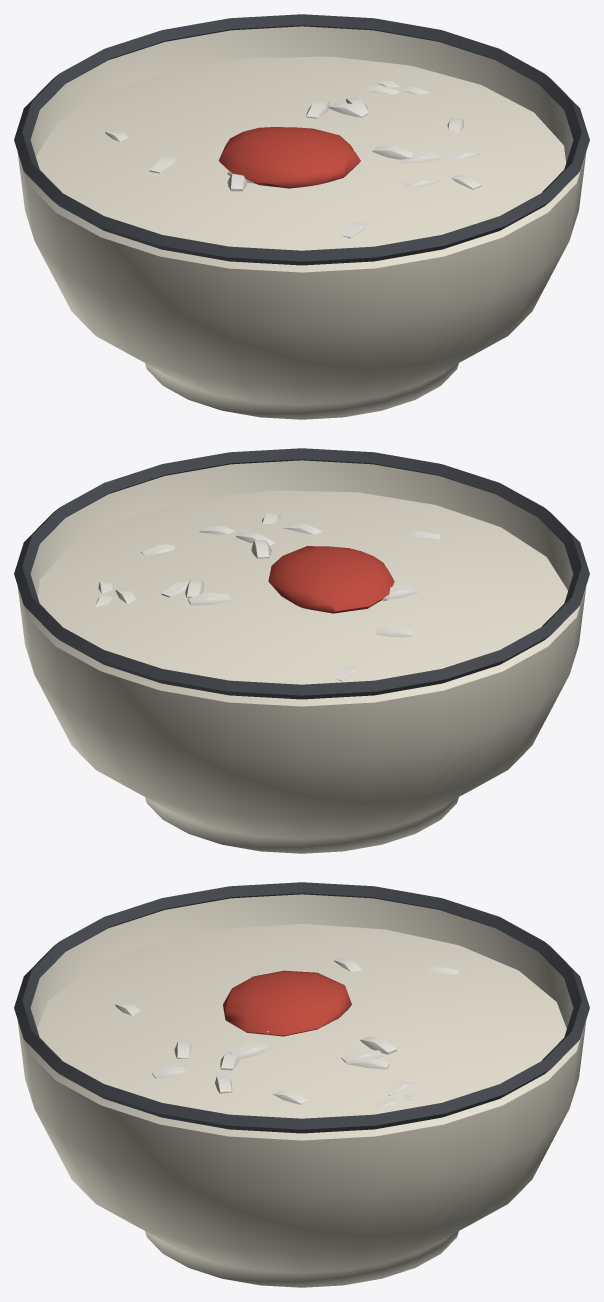
File: cook_rice_pudding.glb
The picture shows the model from 3 angles, top to bottom: view 1: azimuth 30°, elevation 25°; view 2: azimuth 150°, elevation 25°; view 3: azimuth 270°, elevation 25°; orthographic projection.
Visible parts, largest first — view 1: body; view 2: body; view 3: body.
Part boxes in pixels (x1=…): body: x1=14, y1=14, x2=589, y2=419; body: x1=14, y1=448, x2=589, y2=853; body: x1=14, y1=882, x2=589, y2=1287.
Bounding box in the file's own units: 0.0628 × 0.0271 × 0.0628.
